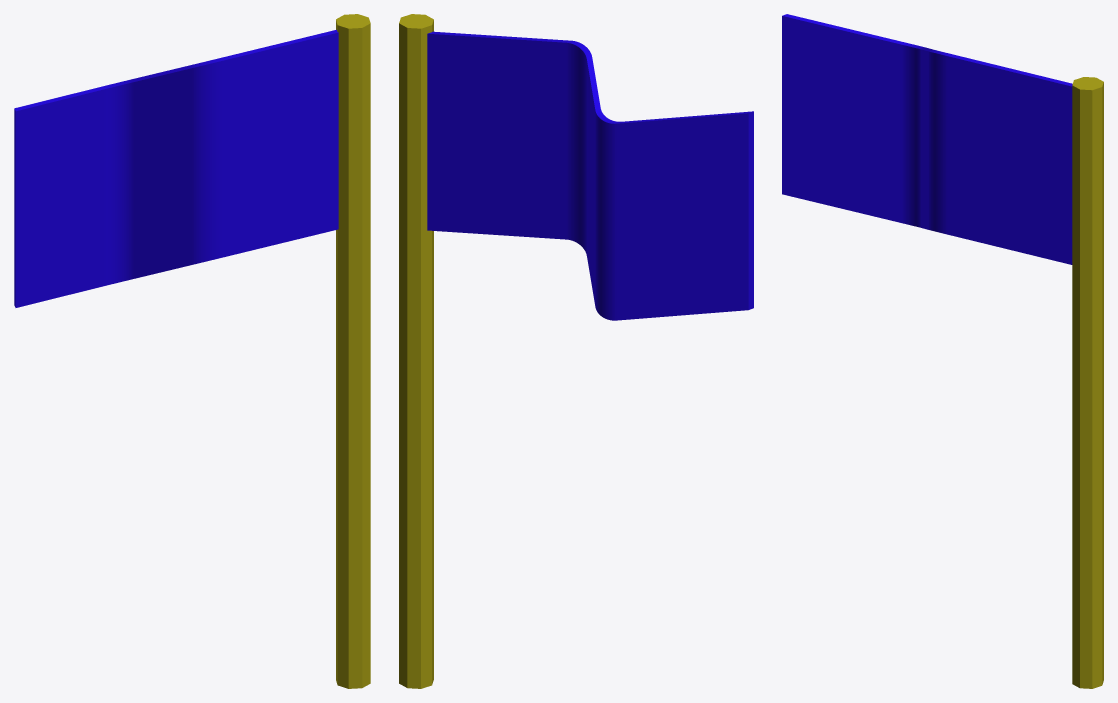
File: BlueFlag.fbx
3 renders of one model, left to right at view 1: azimuth 30°, elevation 25°; view 2: azimuth 150°, elevation 25°; view 3: azimuth 330°, elevation 25°, orthographic. The views are drawn at different scales.
Parts seen in each view (by area): view 1: Plane, blue flag; view 2: Plane, blue flag; view 3: Plane, blue flag.
Boxes of the visible parts, bbox=[...] form: Plane: bbox=[14, 29, 338, 307]; blue flag: bbox=[336, 14, 370, 688]; Plane: bbox=[427, 31, 753, 320]; blue flag: bbox=[399, 14, 433, 688]; Plane: bbox=[782, 14, 1072, 264]; blue flag: bbox=[1072, 77, 1103, 688].
Bounding box in the file's own units: 1401 × 2526 × 272.
